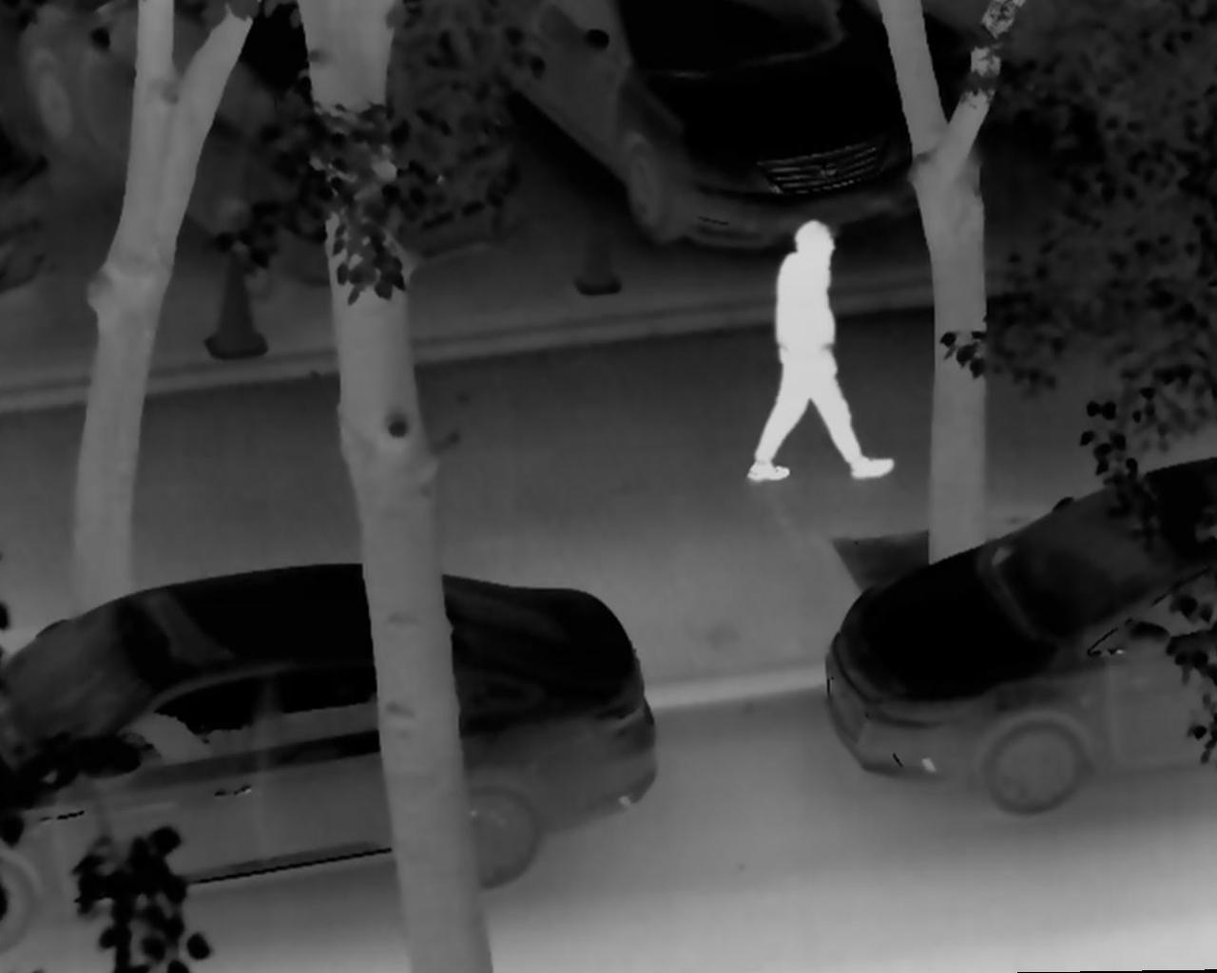person: (739, 220, 898, 482)
